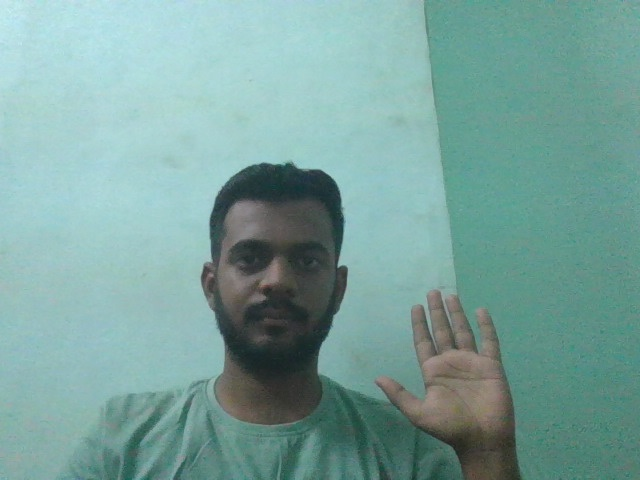hello: (352, 257, 571, 447)
